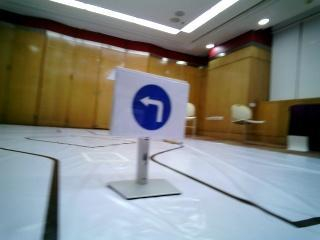left: (117, 72, 186, 134)
